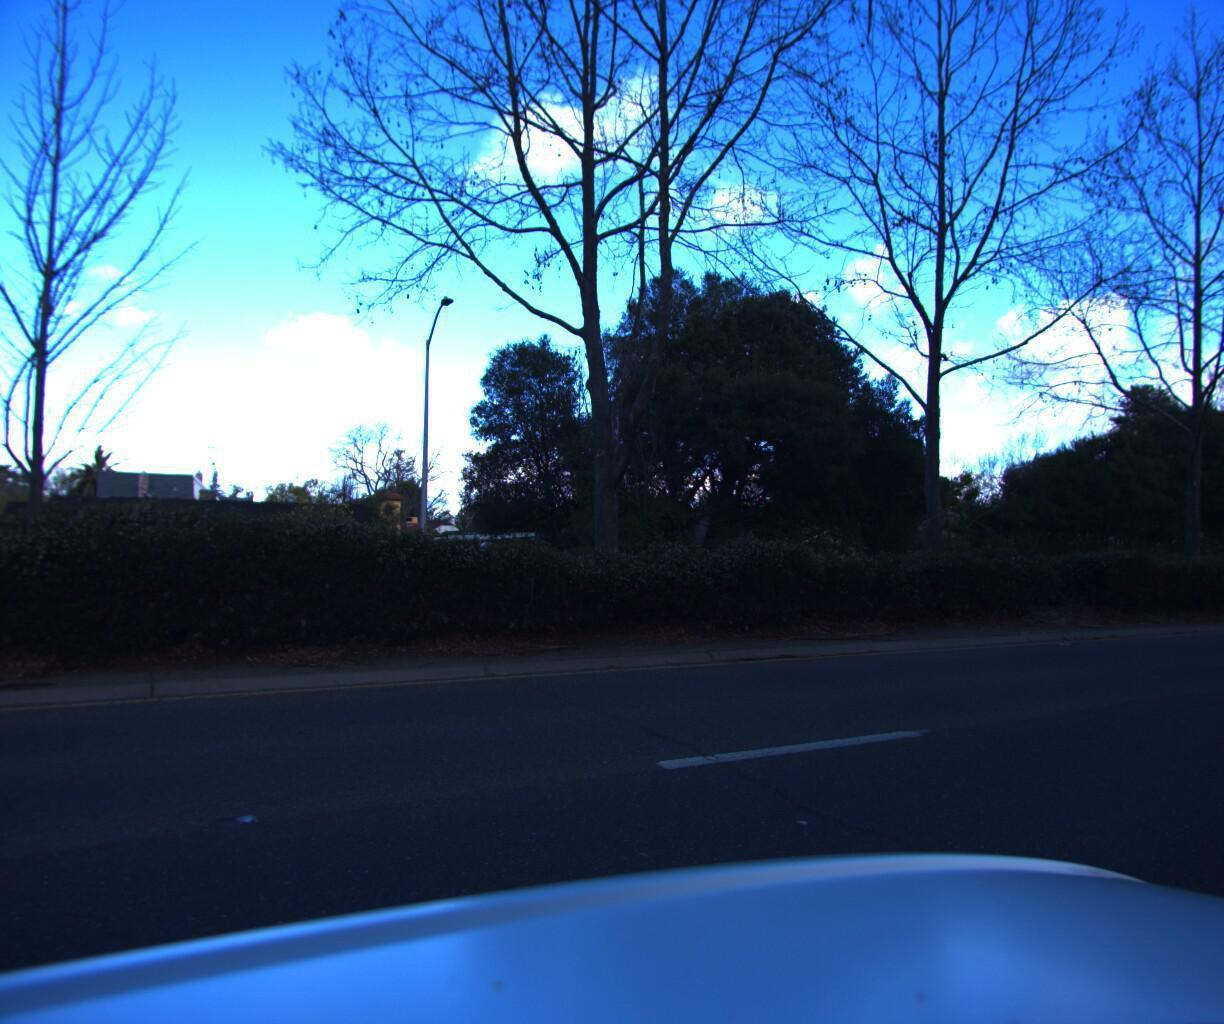car: (410, 533, 608, 606)
